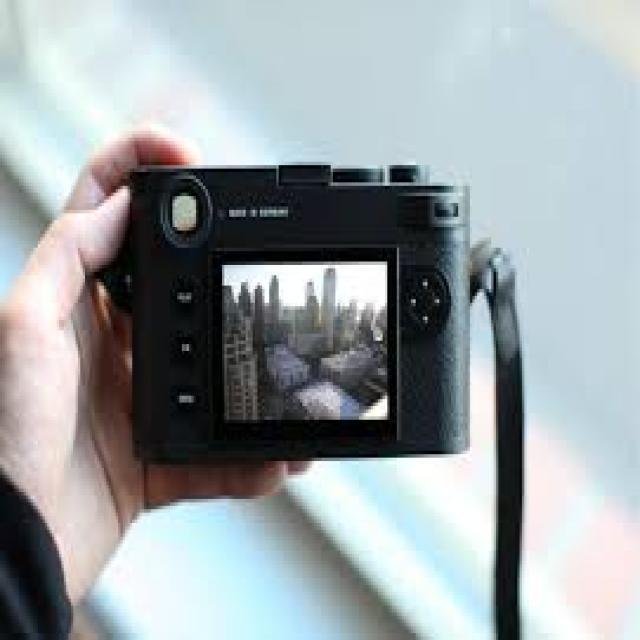camera: (131, 156, 469, 461)
